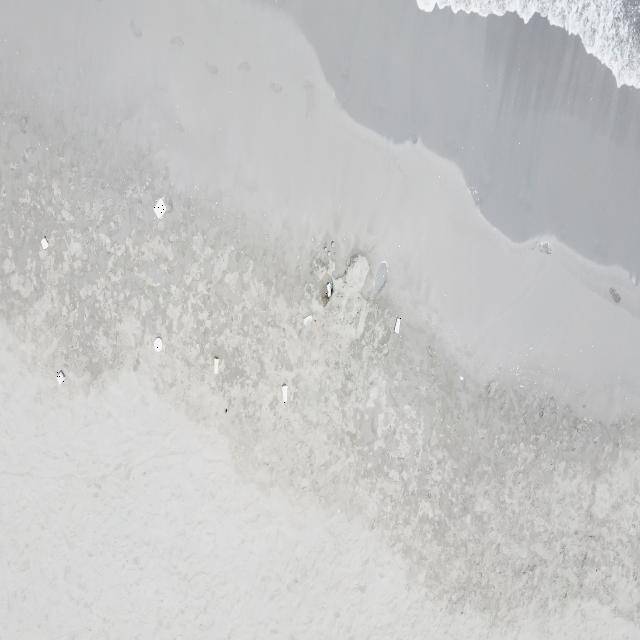take-away-containers: (154, 198, 166, 219), (56, 372, 66, 384), (154, 338, 162, 352), (41, 236, 49, 248)
takeaway-cup: (393, 318, 401, 334), (282, 384, 288, 403), (213, 358, 220, 374), (304, 314, 312, 327), (326, 283, 332, 298)
